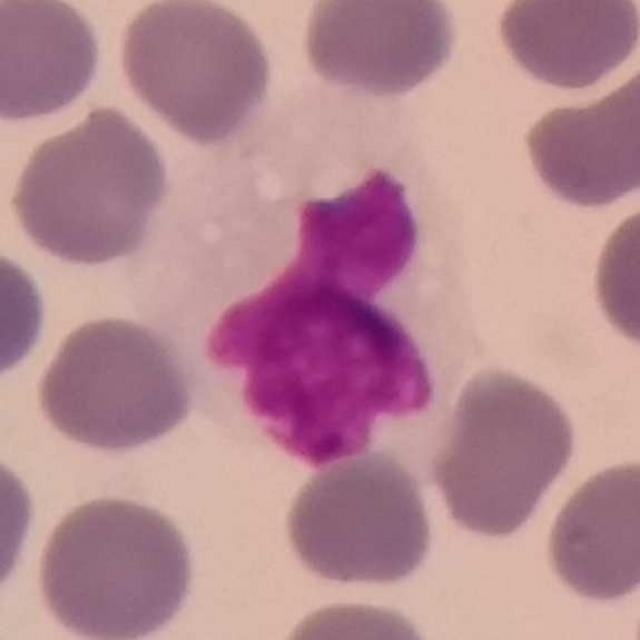mono: (132, 90, 491, 485)
